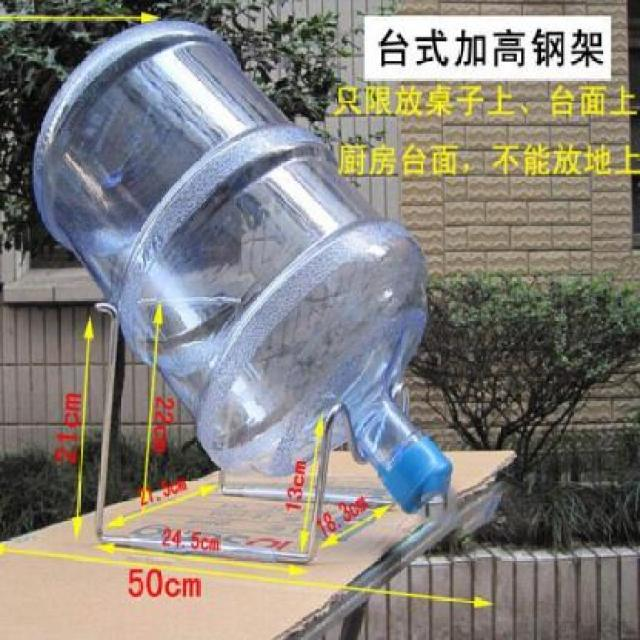coolerbottle: (31, 14, 451, 518)
